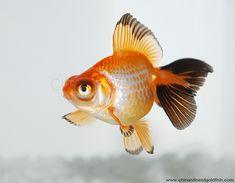goldfish: (57, 41, 202, 141)
